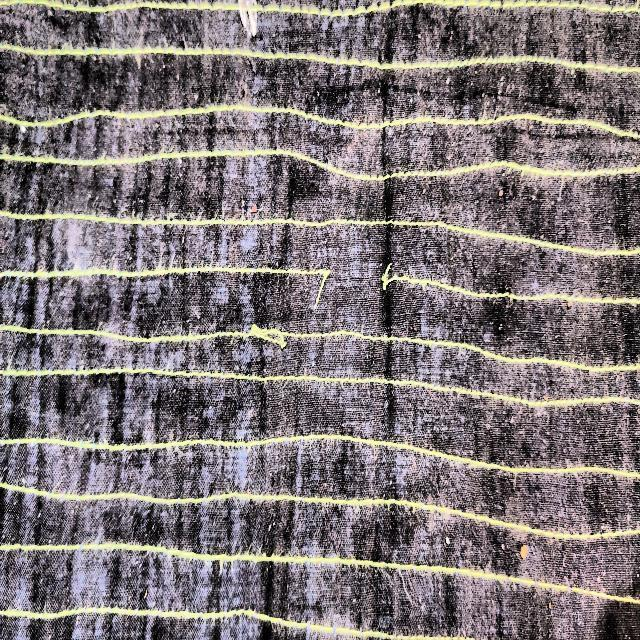gray stitch: (282, 208, 429, 349), (251, 322, 287, 349)
